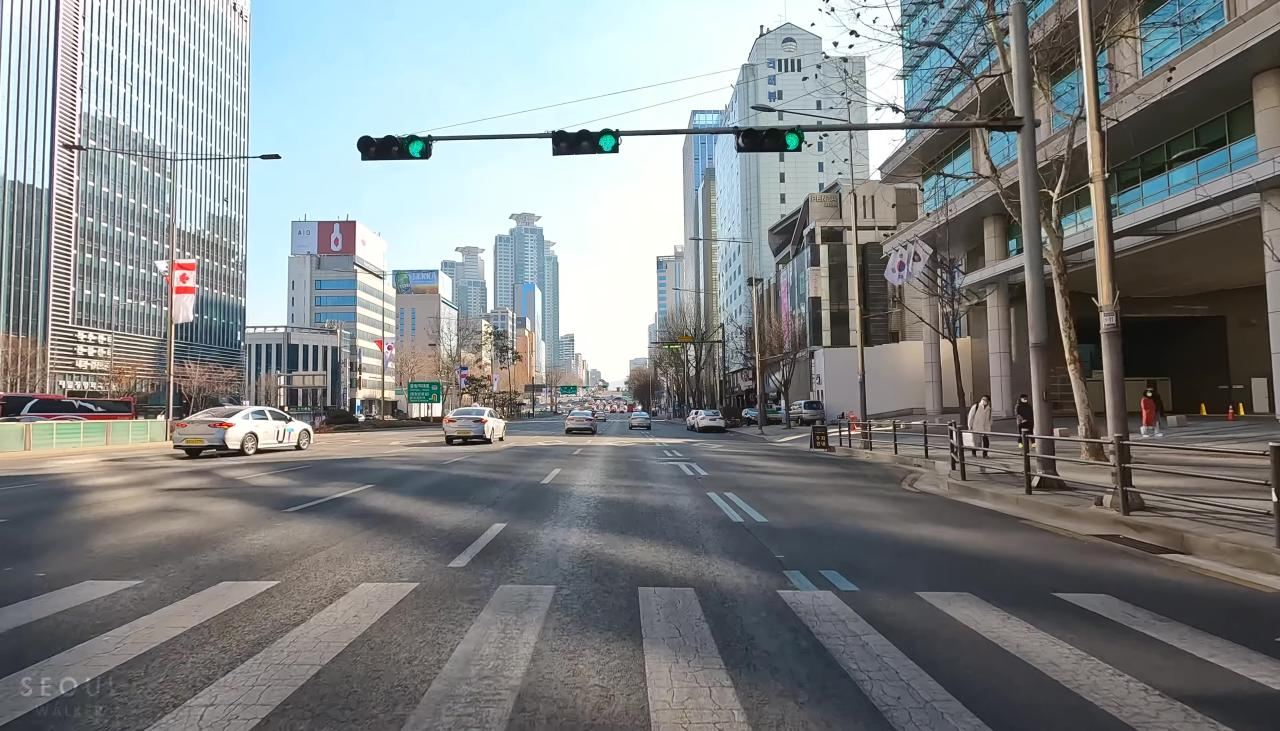Green Light: (782, 128, 802, 154), (597, 129, 619, 152), (406, 135, 427, 159)
